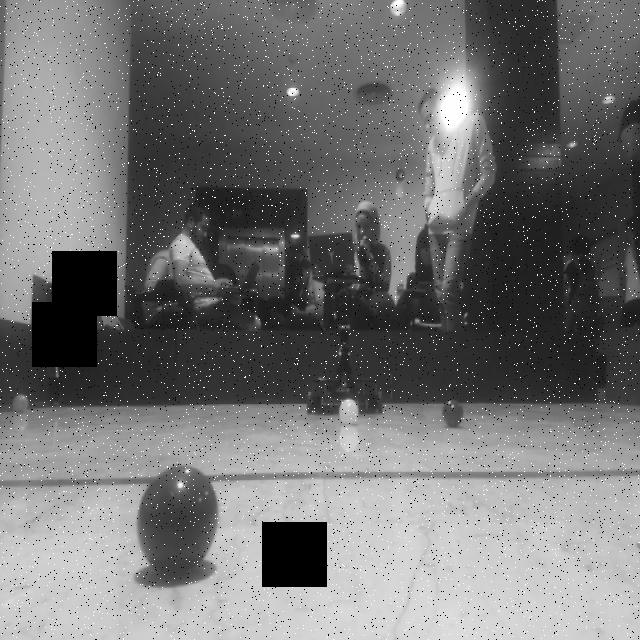ball: (137, 460, 222, 579), (440, 394, 466, 432), (336, 396, 363, 428), (11, 392, 34, 419)
